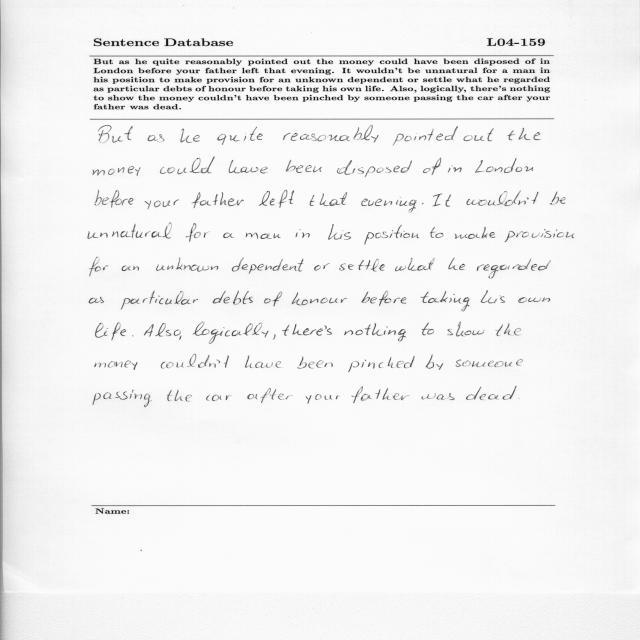word: (283, 125, 379, 143), (193, 322, 269, 344), (477, 259, 551, 279), (121, 291, 198, 310), (88, 223, 171, 239), (392, 126, 458, 146), (337, 160, 412, 177), (232, 257, 303, 274), (364, 225, 419, 245), (467, 191, 539, 206), (348, 356, 415, 372), (161, 354, 229, 369), (93, 390, 152, 407), (352, 386, 410, 403), (421, 291, 470, 311), (157, 257, 219, 272), (160, 157, 214, 174), (356, 323, 406, 341), (505, 229, 574, 242), (475, 158, 533, 173), (191, 193, 244, 209), (361, 197, 417, 212), (217, 127, 263, 145), (292, 293, 347, 306), (466, 386, 517, 400), (247, 388, 293, 403), (95, 190, 133, 208), (362, 291, 407, 306), (259, 190, 294, 208), (99, 125, 133, 143), (213, 291, 253, 305), (447, 322, 484, 337), (339, 259, 385, 271), (96, 323, 126, 341), (282, 324, 327, 336), (456, 359, 523, 367), (395, 258, 435, 271), (310, 192, 347, 206), (229, 160, 268, 173), (455, 227, 496, 239), (93, 166, 140, 176), (286, 160, 322, 173), (245, 355, 281, 368), (297, 356, 333, 369), (507, 128, 541, 140), (464, 129, 494, 142), (95, 361, 138, 370), (186, 223, 206, 242), (144, 323, 171, 337), (328, 224, 351, 240), (90, 257, 108, 276), (145, 200, 179, 210), (306, 394, 340, 404), (496, 323, 522, 336), (167, 389, 192, 402), (423, 158, 441, 175), (180, 128, 200, 143), (481, 291, 505, 303), (426, 354, 444, 370), (264, 292, 282, 306), (432, 194, 451, 207), (421, 393, 455, 400), (550, 191, 565, 205), (246, 233, 281, 239), (449, 258, 466, 270), (518, 297, 550, 303), (327, 328, 353, 335), (206, 395, 231, 401), (422, 323, 434, 335), (430, 227, 443, 238), (148, 134, 165, 142), (296, 229, 310, 238), (314, 264, 330, 271), (89, 297, 104, 304), (122, 265, 139, 271), (448, 166, 462, 173), (174, 330, 181, 340), (223, 233, 234, 238), (273, 334, 276, 340), (422, 203, 424, 204), (132, 336, 134, 337), (519, 398, 520, 398)
